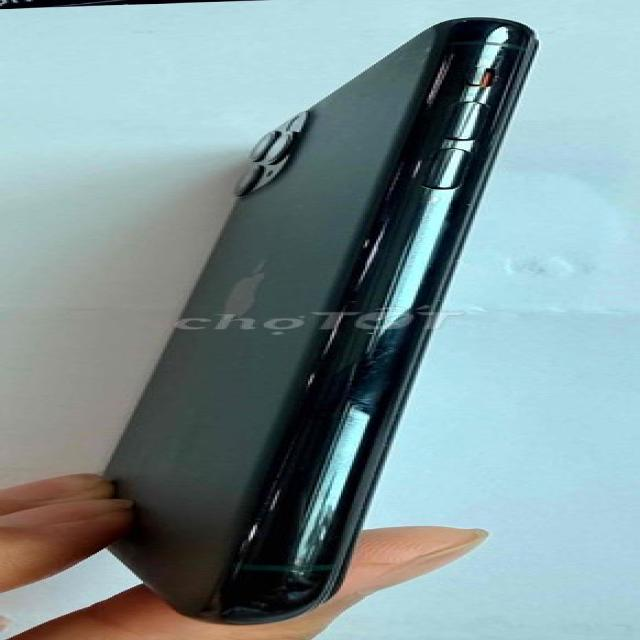scratch: (93, 8, 572, 627)
